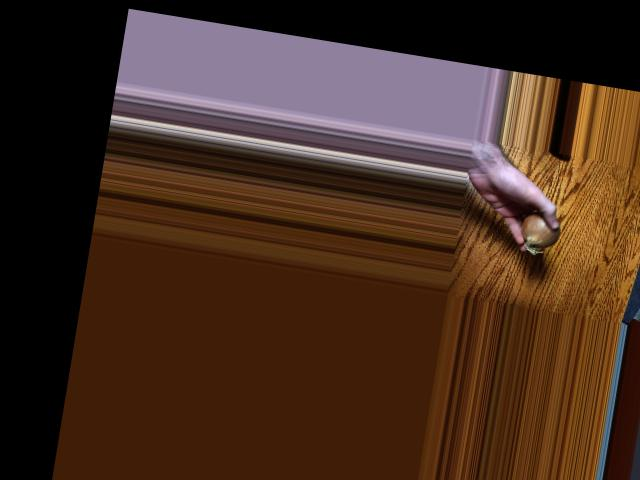onion: (520, 209, 563, 251)
